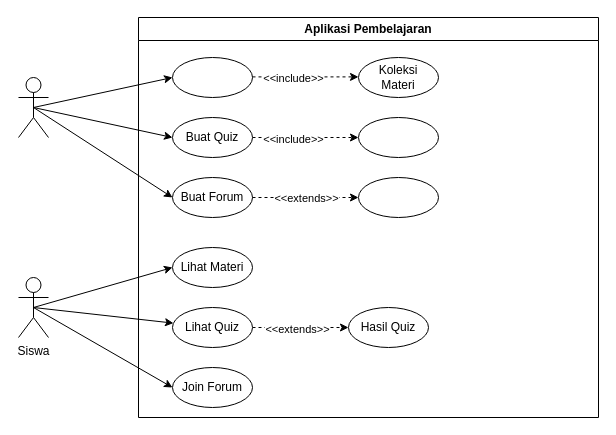
The diagram is 616 pixels wide and 435 high, and some of its shapes have lost their labels. Each missing label, with the centre of its shape:
"Balas Forum" belongs at (398,197).
"Buat Materi" belongs at (212,77).
"Daftar Quiz" belongs at (398,137).
"Guru" belongs at (33,107).
